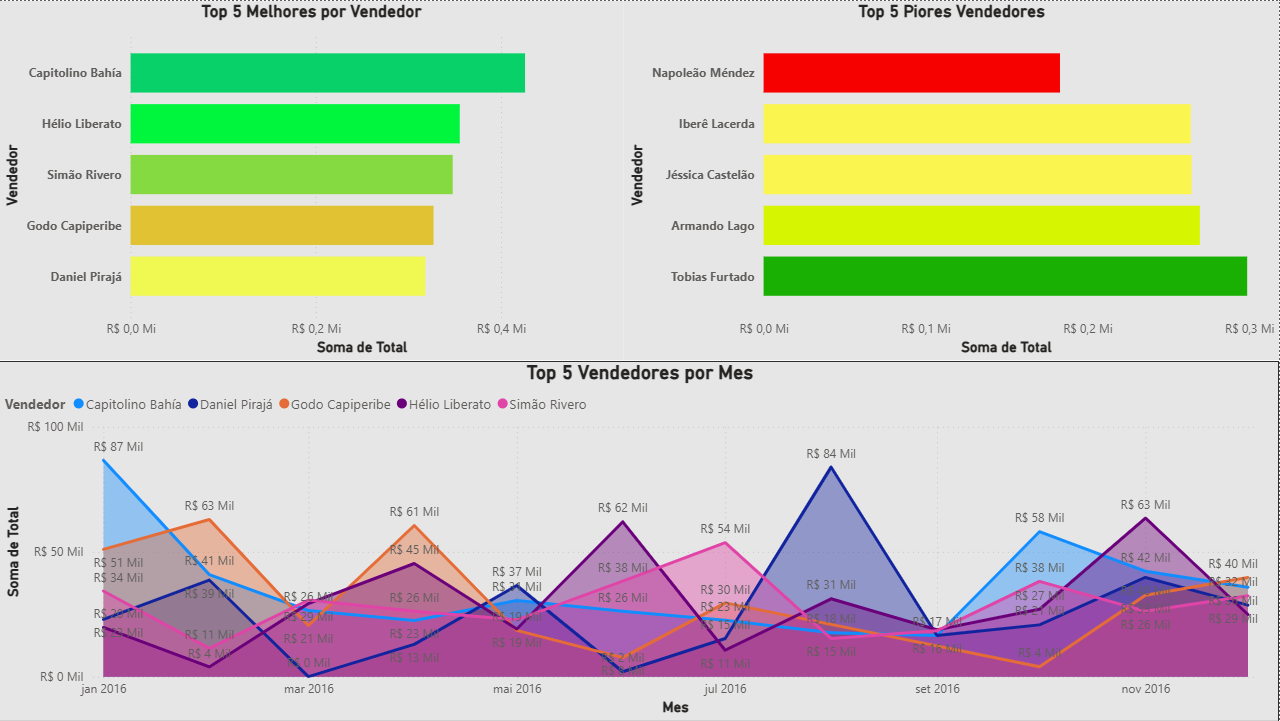

The dashboard page shown, as its layout file describes it:
{"tool":"powerbi","page":{"name":"Vendedores","canvas":[1280,720],"ordinal":1},"visuals":[{"type":"clusteredBarChart","title":"Top 5 Melhores por Vendedor","fields":{"Y":["Sum(Vendas.Total)"],"Category":["Vendedores.Vendedor"]},"box":[0,0,624.9,359.5],"z":0},{"type":"clusteredBarChart","title":"Top 5 Piores Vendedores","fields":{"Y":["Sum(Vendas.Total)"],"Category":["Vendedores.Vendedor"]},"box":[624.9,0,655.4,359.5],"z":1000},{"type":"lineChart","title":"Top 5 Vendedores por Mes","fields":{"Category":["Vendas.Mes"],"Series":["Vendedores.Vendedor"],"Y":["Sum(Vendas.Total)"]},"box":[0,359.5,1280.3,360.7],"z":1001}]}

Visuals, with their boxes in screenshot pixels (x1, y1, x2, y2), scaled from the page's 1280x720 canvas onto the 1280x721 screenshot:
"Top 5 Melhores por Vendedor" clusteredBarChart: <bbox>0, 0, 625, 360</bbox>
"Top 5 Piores Vendedores" clusteredBarChart: <bbox>625, 0, 1279, 360</bbox>
"Top 5 Vendedores por Mes" lineChart: <bbox>0, 360, 1279, 720</bbox>
